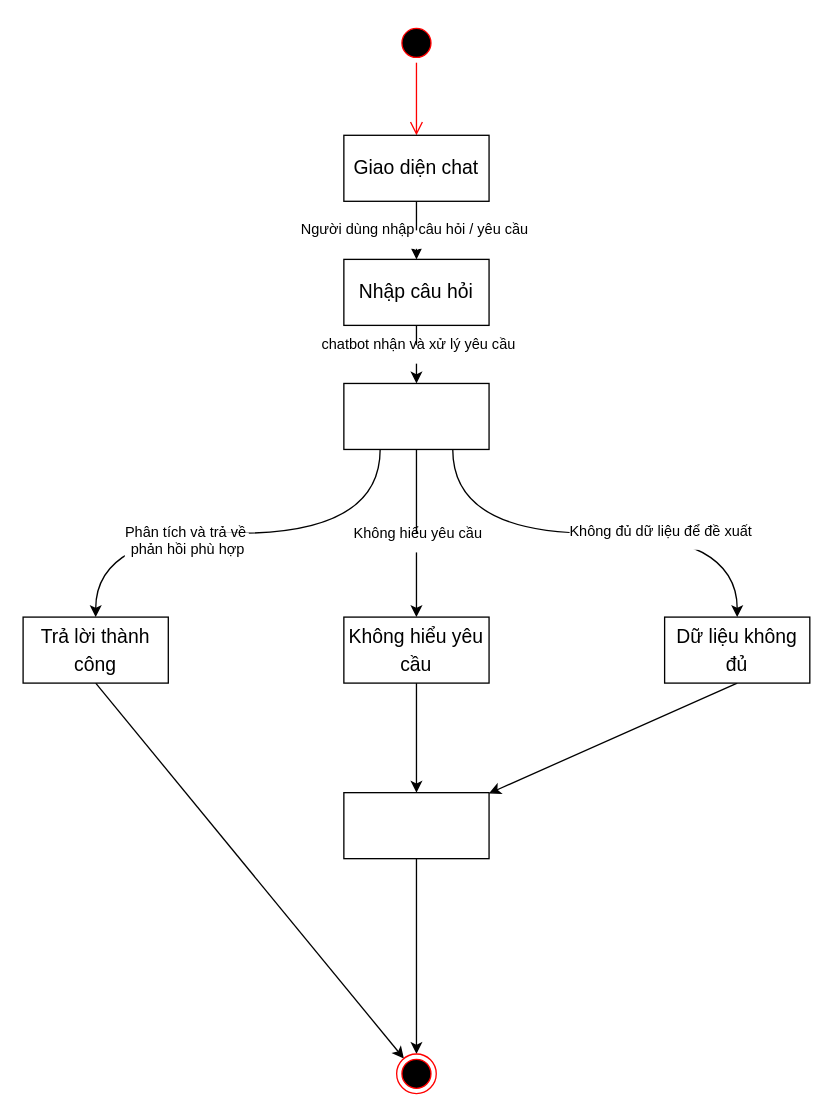
This 833x1117 diagram has some shape labels left out. The shapes that lost their labels are listed below. From the top down, each one's centre as x and y in pixels, then its label:
[416,415]: Xử lý yêu cầu
[416,825]: Thông báo
